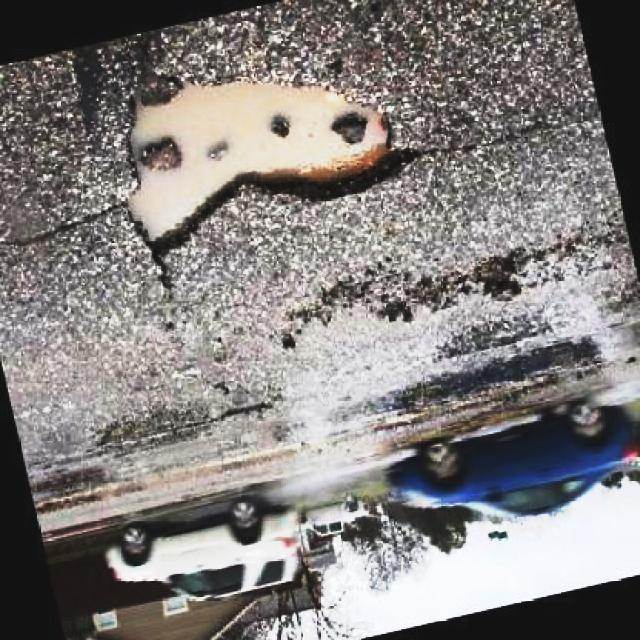pothole: (108, 68, 409, 258)
